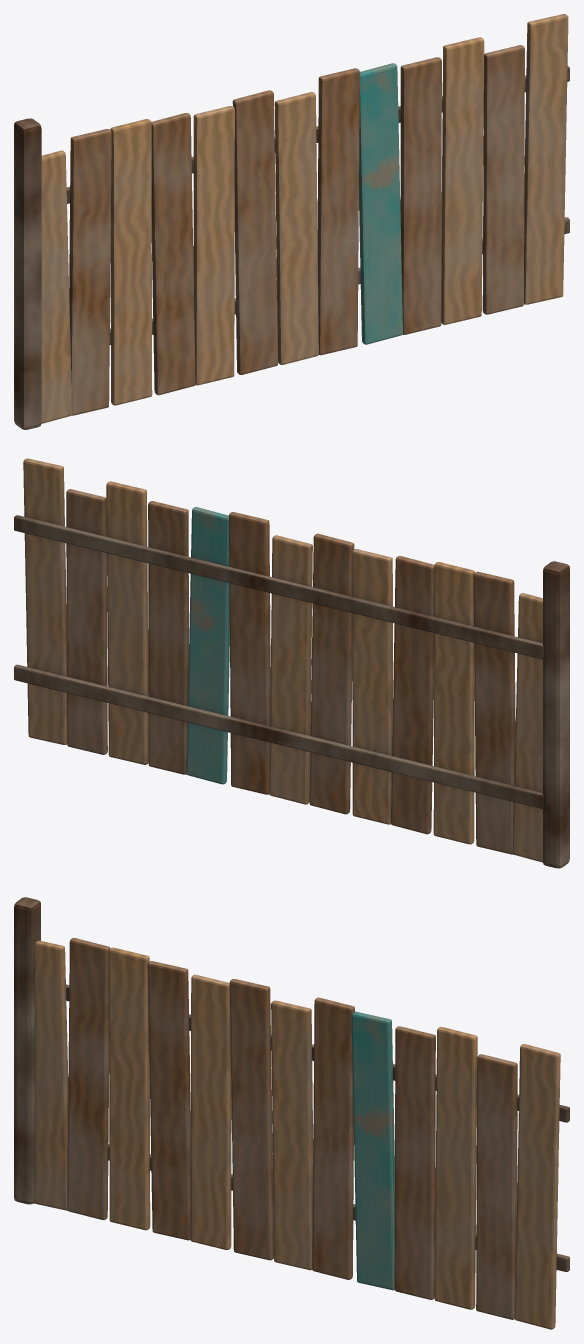
Rendered from fence_tall_b.glb.
3 renders of one model, top to bottom at view 1: azimuth 30°, elevation 25°; view 2: azimuth 150°, elevation 25°; view 3: azimuth 330°, elevation 25°, orthographic.
Parts seen in each view (by area): view 1: FenceTall_Mesh; view 2: FenceTall_Mesh; view 3: FenceTall_Mesh.
Part boxes in pixels (<box>): FenceTall_Mesh: <box>14,14,569,429</box>; FenceTall_Mesh: <box>14,458,569,868</box>; FenceTall_Mesh: <box>14,897,569,1329</box>.
Size of the model in its own units: 4.02 by 2.1 by 0.14.
Materials: 1 (1 with a texture image).
